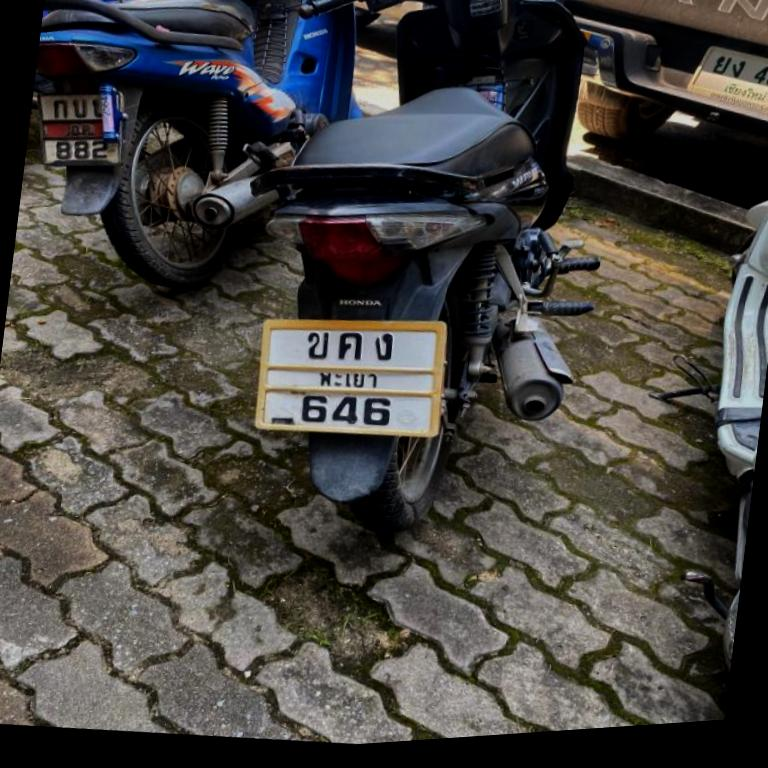license plate: (257, 319, 446, 436), (37, 92, 119, 165)
